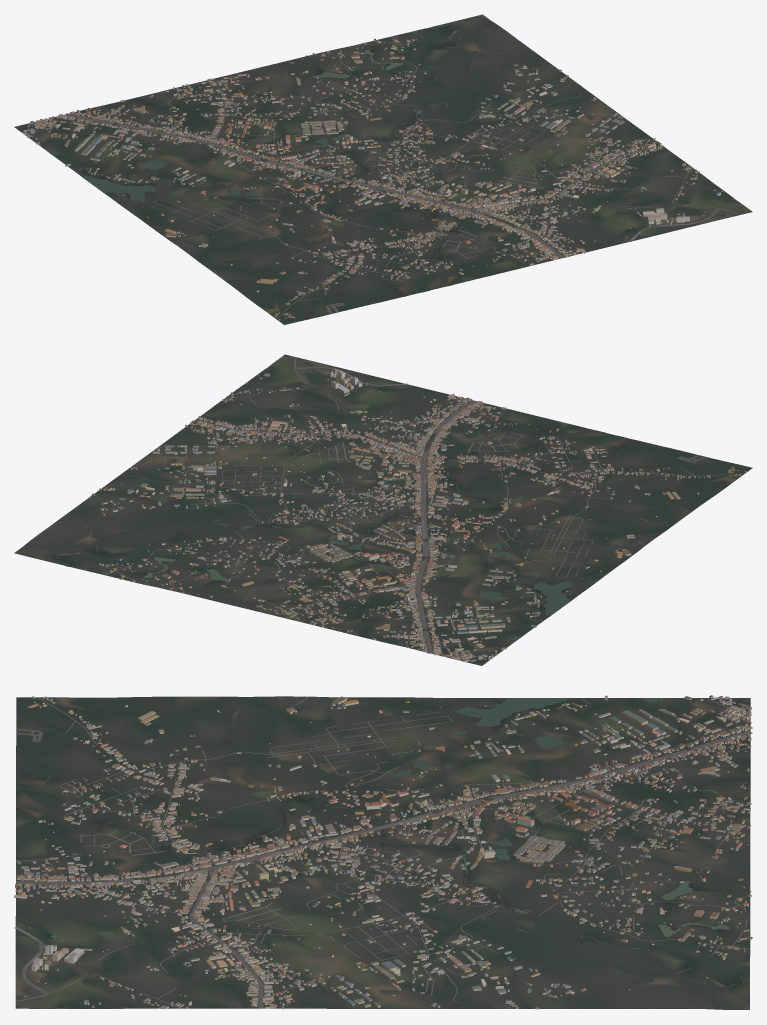
3 renders of one model, top to bottom at view 1: azimuth 30°, elevation 25°; view 2: azimuth 150°, elevation 25°; view 3: azimuth 270°, elevation 25°, orthographic. The views are drawn at different scales.
Visible parts, largest first — view 1: ground, buildings, roads, water; view 2: ground, buildings, roads, water; view 3: ground, buildings, roads, water.
Boxes of the visible parts, bbox=[...] form: ground: bbox=[14, 14, 752, 324]; buildings: bbox=[22, 36, 732, 320]; roads: bbox=[28, 36, 740, 319]; water: bbox=[49, 26, 737, 295]; ground: bbox=[14, 354, 752, 665]; buildings: bbox=[77, 360, 746, 662]; roads: bbox=[102, 357, 744, 660]; water: bbox=[55, 365, 630, 640]; ground: bbox=[15, 696, 750, 1009]; buildings: bbox=[14, 695, 752, 1009]; roads: bbox=[14, 696, 752, 1008]; water: bbox=[16, 698, 745, 1008].
Size of the model in its own units: 2814 by 40.29 by 2821.
